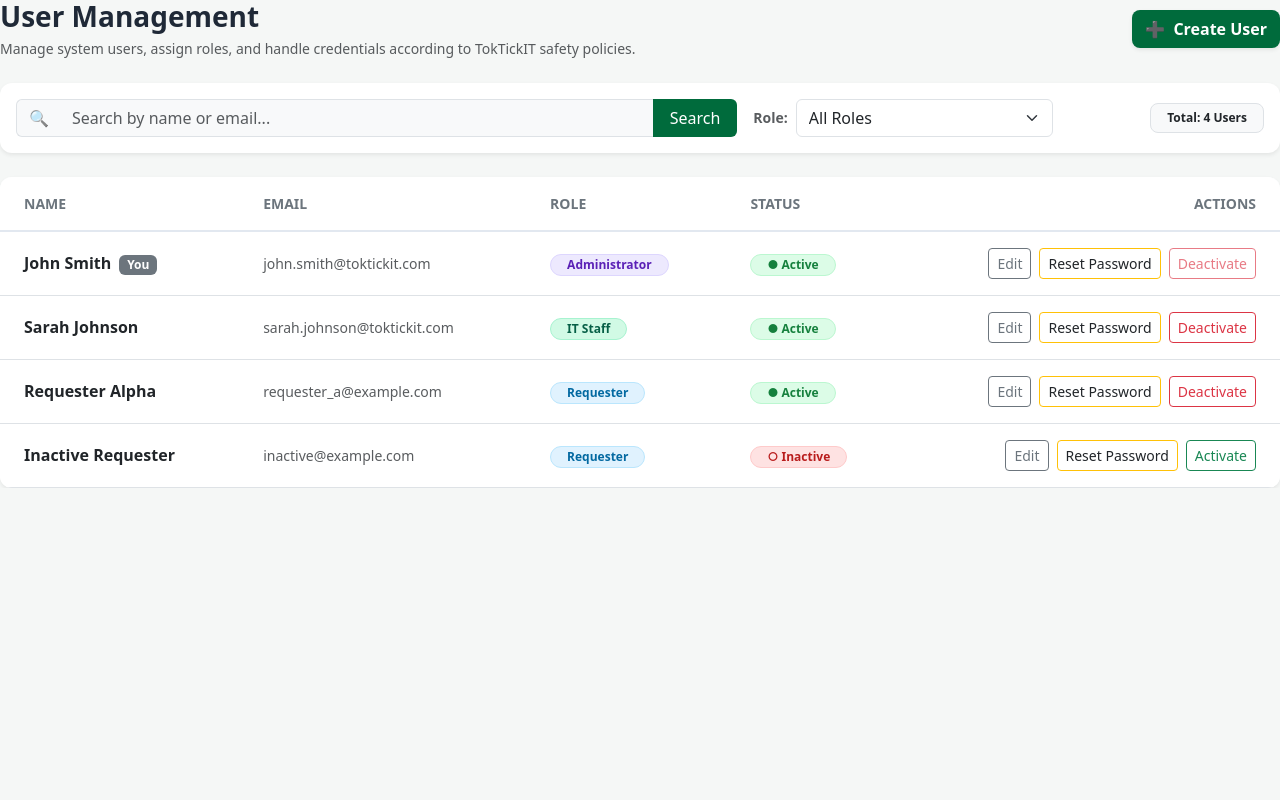
it: UI-05: Admin User Management Component Tests › displays error message when creating a user with duplicate email
Click the button with test id "create-user-btn" at (1206, 29), box [1132, 10, 1279, 48]
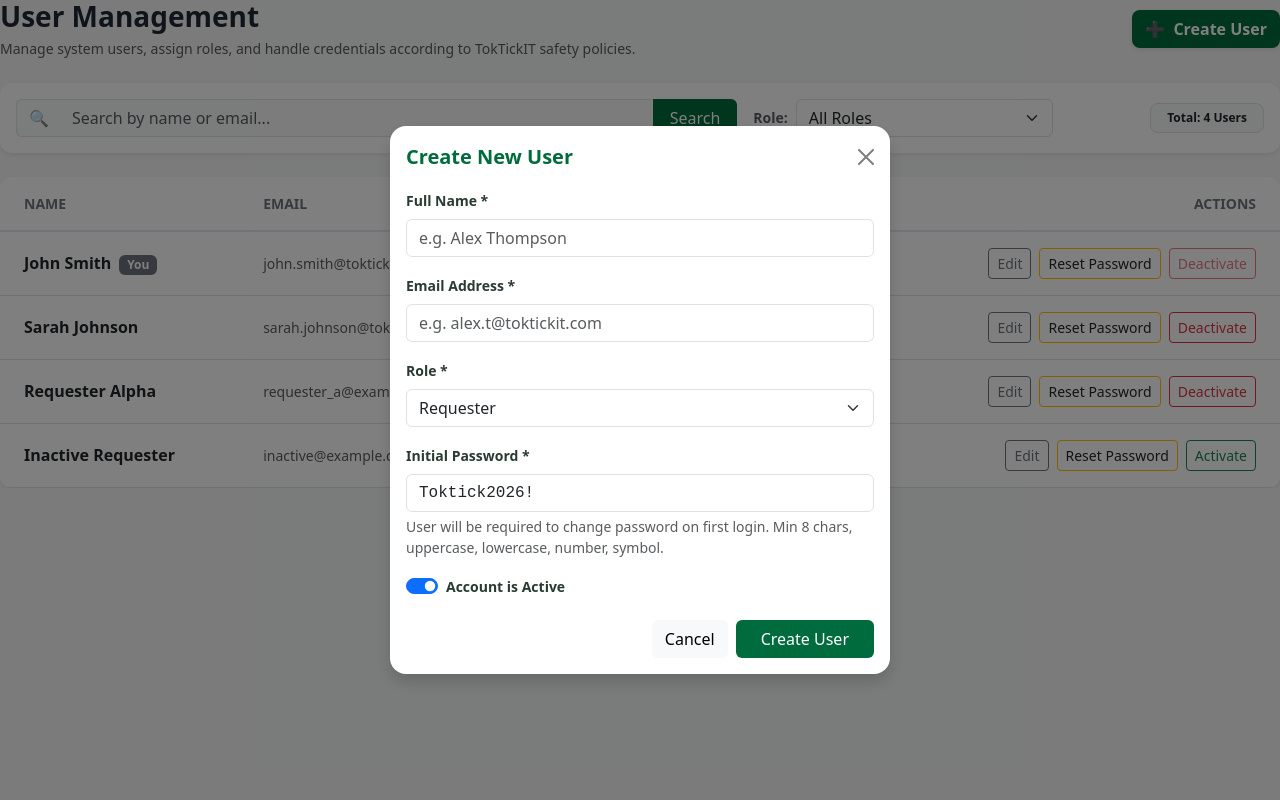
Type "Duplicate User" into the field with test id "create-name-input" at (640, 238), box [406, 219, 874, 257]
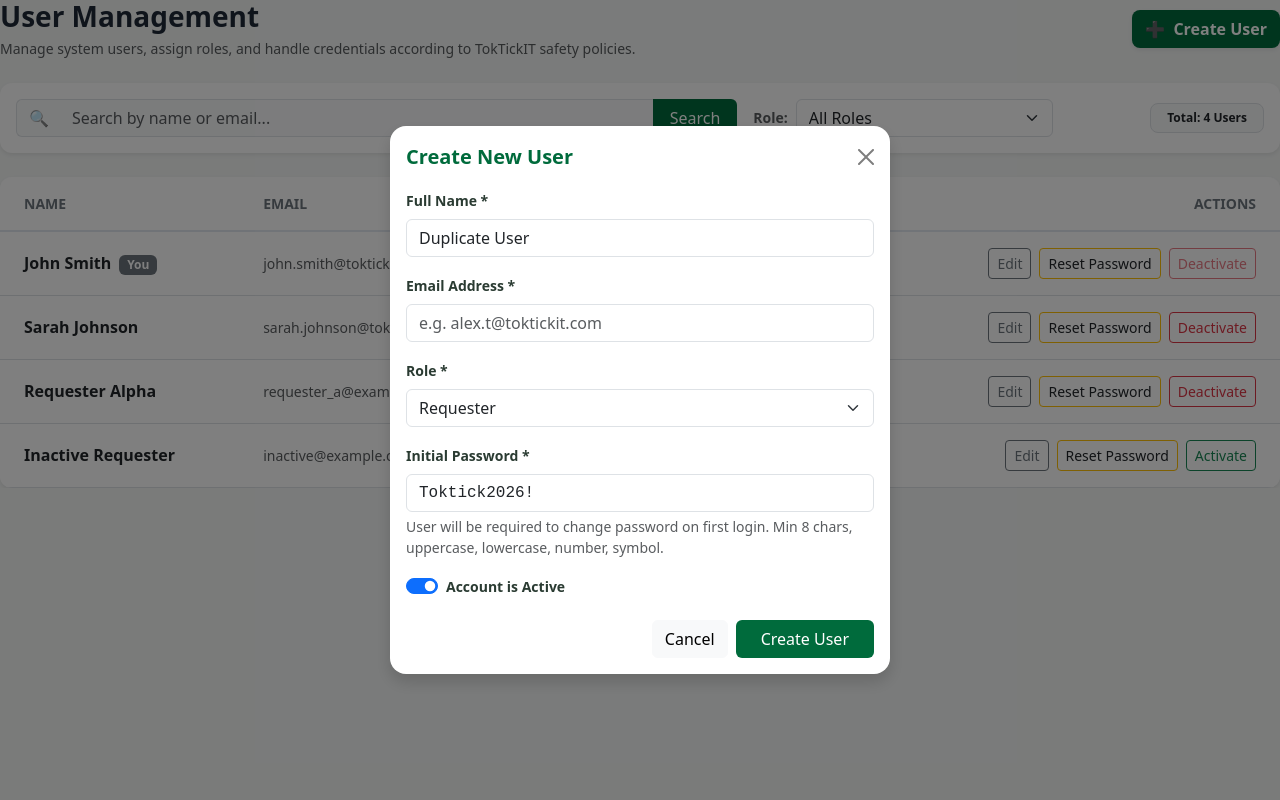
Type "john.smith@toktickit.com" into the field with test id "create-email-input" at (640, 323), box [406, 304, 874, 342]
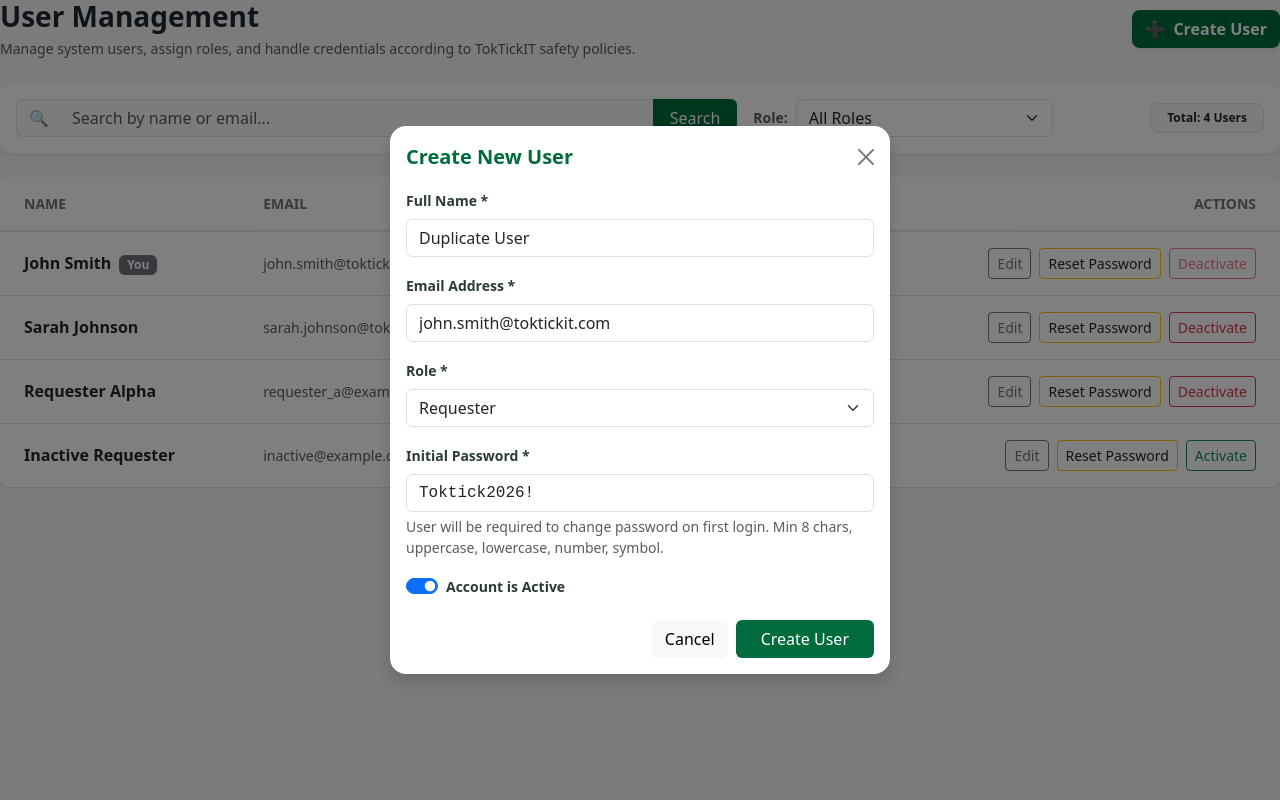
Click the button with test id "create-user-submit" at (805, 639), box [736, 620, 874, 658]
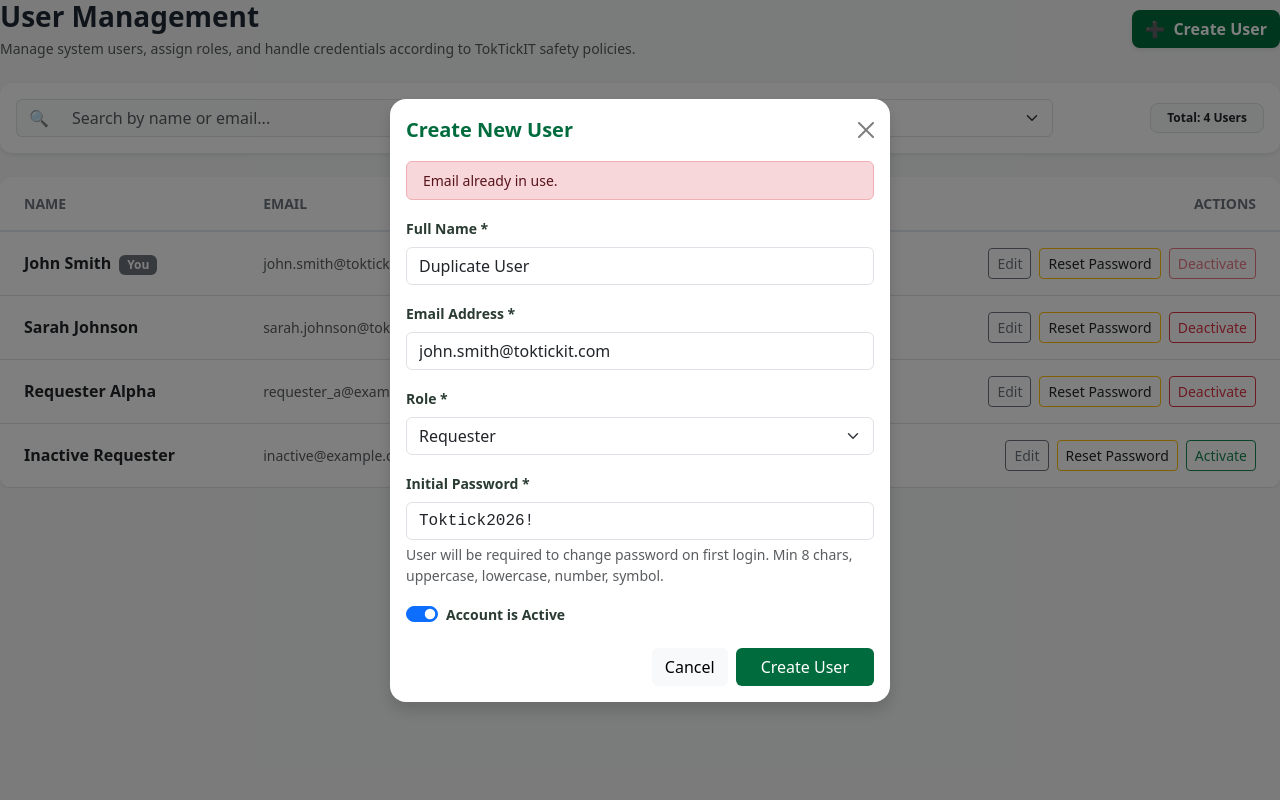
Expected: the text "Email already in use." is shown, [406, 160, 874, 200]
